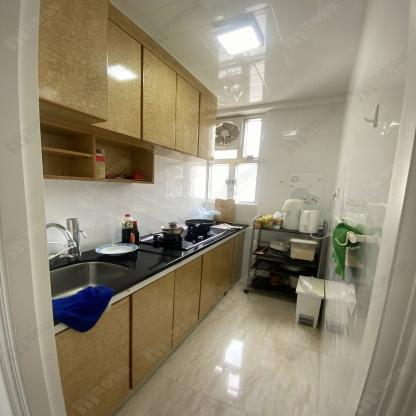Cupboard: (57, 232, 240, 415), (42, 1, 224, 162)
Exhaust Fan: (214, 117, 244, 149)
Faucet: (45, 216, 87, 260)
Sink: (51, 261, 129, 302)
Stove: (147, 225, 226, 251)
